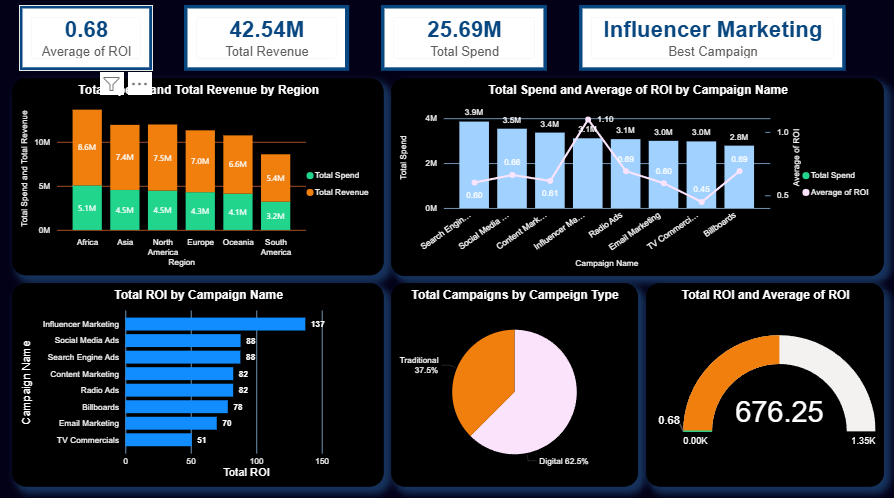

The dashboard page shown, as its layout file describes it:
{"tool":"powerbi","page":{"name":"Campaign Performance Overview","canvas":[1280,720],"ordinal":0},"visuals":[{"type":"columnChart","fields":{"Y":["marketing campaign performance.Total Spend","marketing campaign performance.Total Revenue"],"Category":["region performance.Region"]},"box":[17.9,114.9,531.3,282.1],"z":0},{"type":"lineClusteredColumnComboChart","fields":{"Y":["marketing campaign performance.Total Spend"],"Category":["Marketing Campaign Details.Campaign Name"],"Y2":["Avg(marketing campaign performance.ROI)"]},"box":[560,114.3,704.3,282.9],"z":1000},{"type":"barChart","fields":{"Category":["Marketing Campaign Details.Campaign Name"],"Y":["Marketing Campaign Details.Total ROI"]},"box":[17.9,407.5,531.3,291],"z":2000},{"type":"pieChart","title":" Total Campaigns by Campeign Type","fields":{"Category":["Marketing Campaign Details.Campeign Type"],"Y":["CountNonNull(Marketing Campaign Details.Tota lCampaigns)"]},"box":[560,407.1,352.9,291.4],"z":3000},{"type":"gauge","fields":{"TargetValue":["Avg(marketing campaign performance.ROI)"],"Y":["Marketing Campaign Details.Total ROI"]},"box":[924.3,407.1,340,291.4],"z":4000},{"type":"cardVisual","fields":{"Data":["marketing campaign performance.Total Revenue"]},"box":[264.3,10,235.7,94.3],"z":5000},{"type":"cardVisual","fields":{"Data":["Avg(marketing campaign performance.ROI)"]},"box":[28.6,10,191.4,94.3],"z":6000},{"type":"cardVisual","fields":{"Data":["marketing campaign performance.Total Spend"]},"box":[545.7,10,237.1,94.3],"z":7000},{"type":"cardVisual","fields":{"Data":["Marketing Campaign Details.Best Campeign"]},"box":[828.6,10,381.4,94.3],"z":8000}]}

Visuals, with their boxes in screenshot pixels (x1, y1, x2, y2), scaled from the page's 1280x720 canvas onto the 894x498 screenshot:
columnChart - marketing campaign performance.Total Spend x marketing campaign performance.Total Revenue: box(13, 79, 384, 275)
lineClusteredColumnComboChart - marketing campaign performance.Total Spend x Marketing Campaign Details.Campaign Name: box(391, 79, 883, 275)
barChart - Marketing Campaign Details.Campaign Name x Marketing Campaign Details.Total ROI: box(13, 282, 384, 483)
" Total Campaigns by Campeign Type" pieChart: box(391, 282, 638, 483)
gauge - Avg(marketing campaign performance.ROI) x Marketing Campaign Details.Total ROI: box(646, 282, 883, 483)
cardVisual - marketing campaign performance.Total Revenue: box(185, 7, 349, 72)
cardVisual - Avg(marketing campaign performance.ROI): box(20, 7, 154, 72)
cardVisual - marketing campaign performance.Total Spend: box(381, 7, 547, 72)
cardVisual - Marketing Campaign Details.Best Campeign: box(579, 7, 845, 72)
